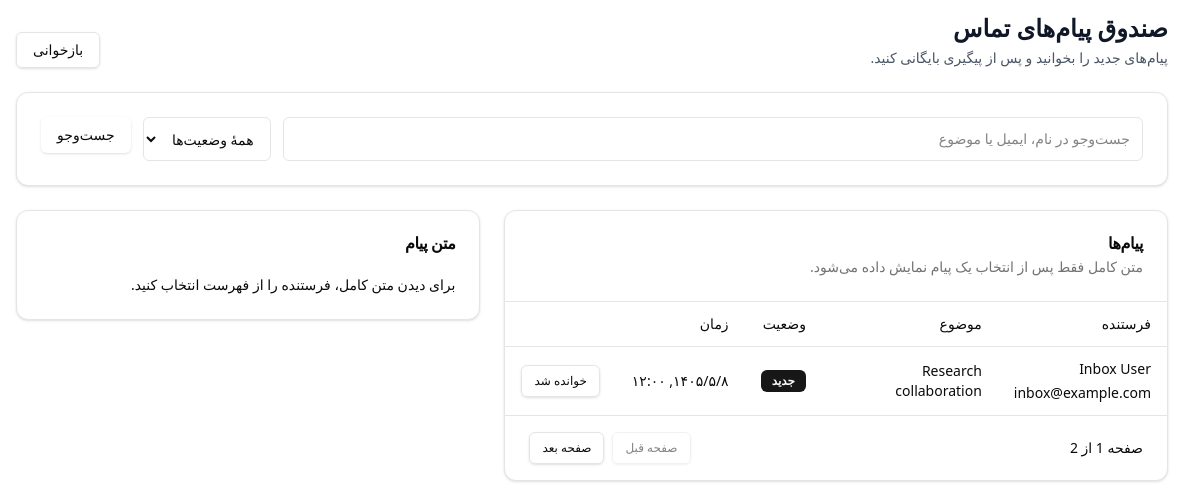
Test case: AdminContactInboxPage › loads the next inbox page without exposing identifiers
Expected: the button "Inbox User inbox@example.com" is shown, [1014, 359, 1151, 403]
Click the button "صفحه بعد" at (567, 448), box [530, 432, 604, 464]
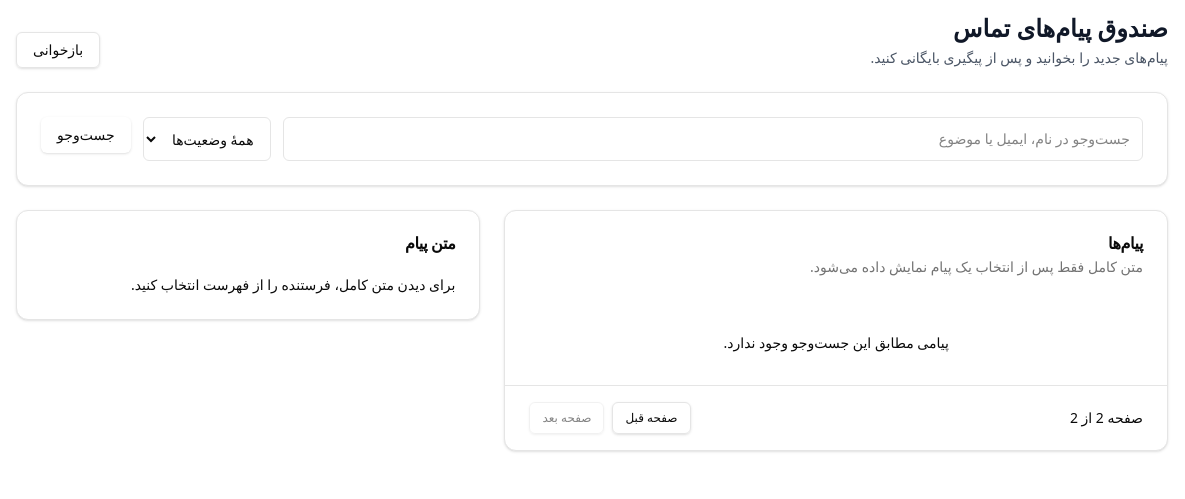
Expected: the text "پیامی مطابق این جست‌وجو وجود ندارد." is shown, [724, 333, 949, 352]
